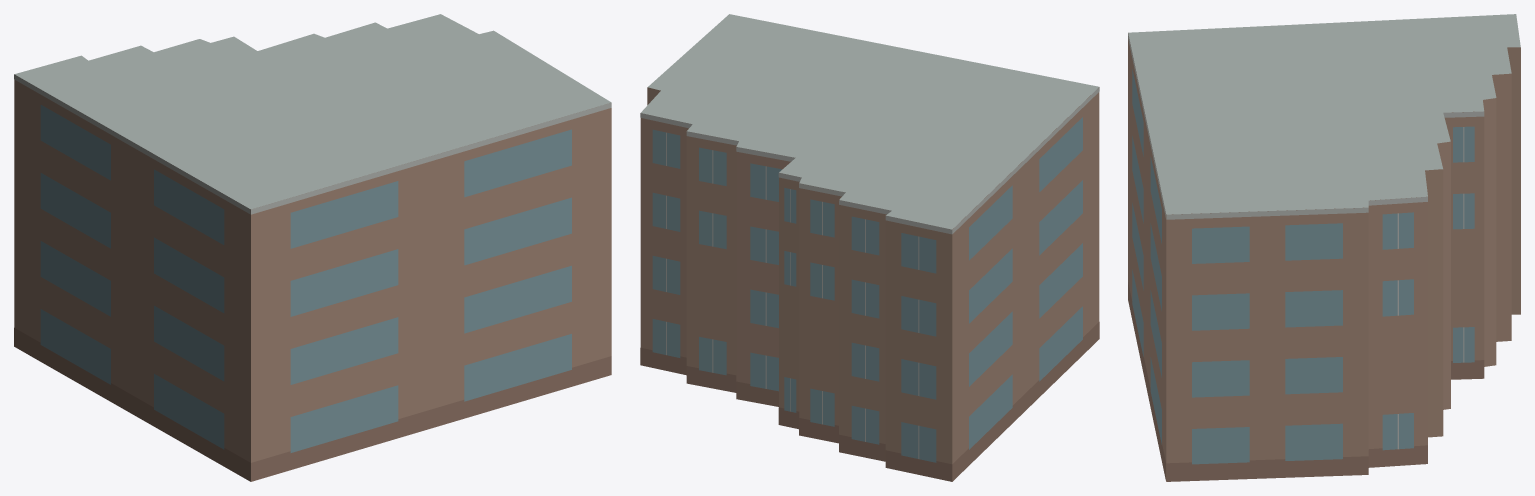
The model's file is survey-upis-32463402.glb.
3 views of the same model, side by side, from view 1: azimuth 30°, elevation 25°; view 2: azimuth 150°, elevation 25°; view 3: azimuth 270°, elevation 25° (orthographic). The views are drawn at different scales.
Parts seen in each view (by area): view 1: survey-upis-32463402.tmp; view 2: survey-upis-32463402.tmp; view 3: survey-upis-32463402.tmp.
Boxes of the visible parts, x1,y1,x2,y2 form: survey-upis-32463402.tmp: (14, 14, 611, 481); survey-upis-32463402.tmp: (640, 14, 1099, 481); survey-upis-32463402.tmp: (1128, 14, 1520, 481).
Bounding box in the file's own units: 20.46 × 12.7 × 16.92.
